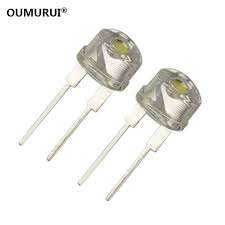LED: (16, 26, 204, 211), (67, 26, 142, 106)
